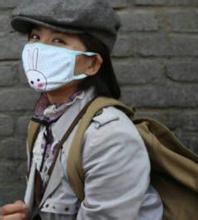OK: (23, 32, 84, 93)
